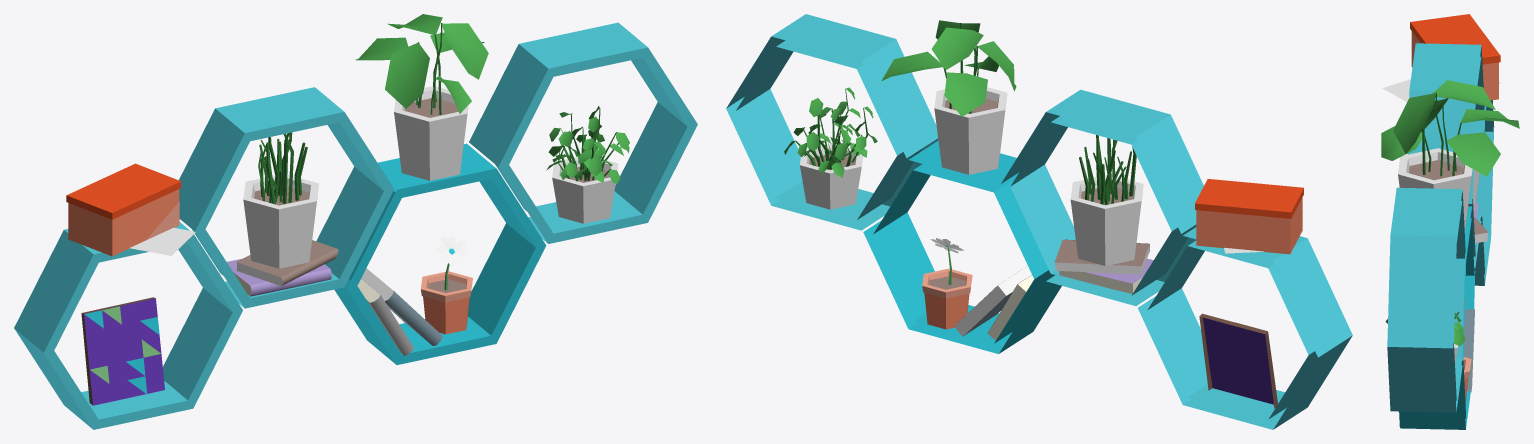
Rendered from Shelf_M_02.fbx.
The picture shows the model from 3 angles, left to right: view 1: azimuth 30°, elevation 25°; view 2: azimuth 150°, elevation 25°; view 3: azimuth 270°, elevation 25°; orthographic projection. The views are drawn at different scales.
Visible parts, largest first — view 1: Shelf_M_02; view 2: Shelf_M_02; view 3: Shelf_M_02.
Boxes of the visible parts, <box> form: Shelf_M_02: <box>14,14,697,429</box>; Shelf_M_02: <box>726,14,1352,429</box>; Shelf_M_02: <box>1381,14,1519,429</box>.
Bounding box in the file's own units: 172 × 81.6 × 32.21.
Materials: 1 (1 with a texture image).
